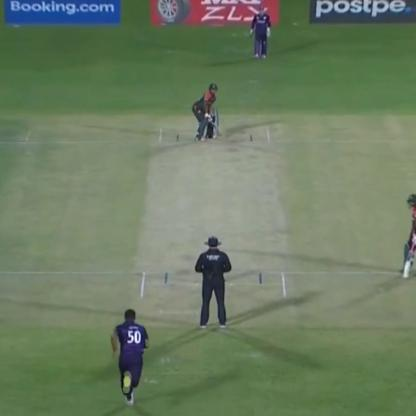bat: (396, 233, 415, 283), (201, 111, 227, 141)
pitch: (140, 129, 290, 312)
